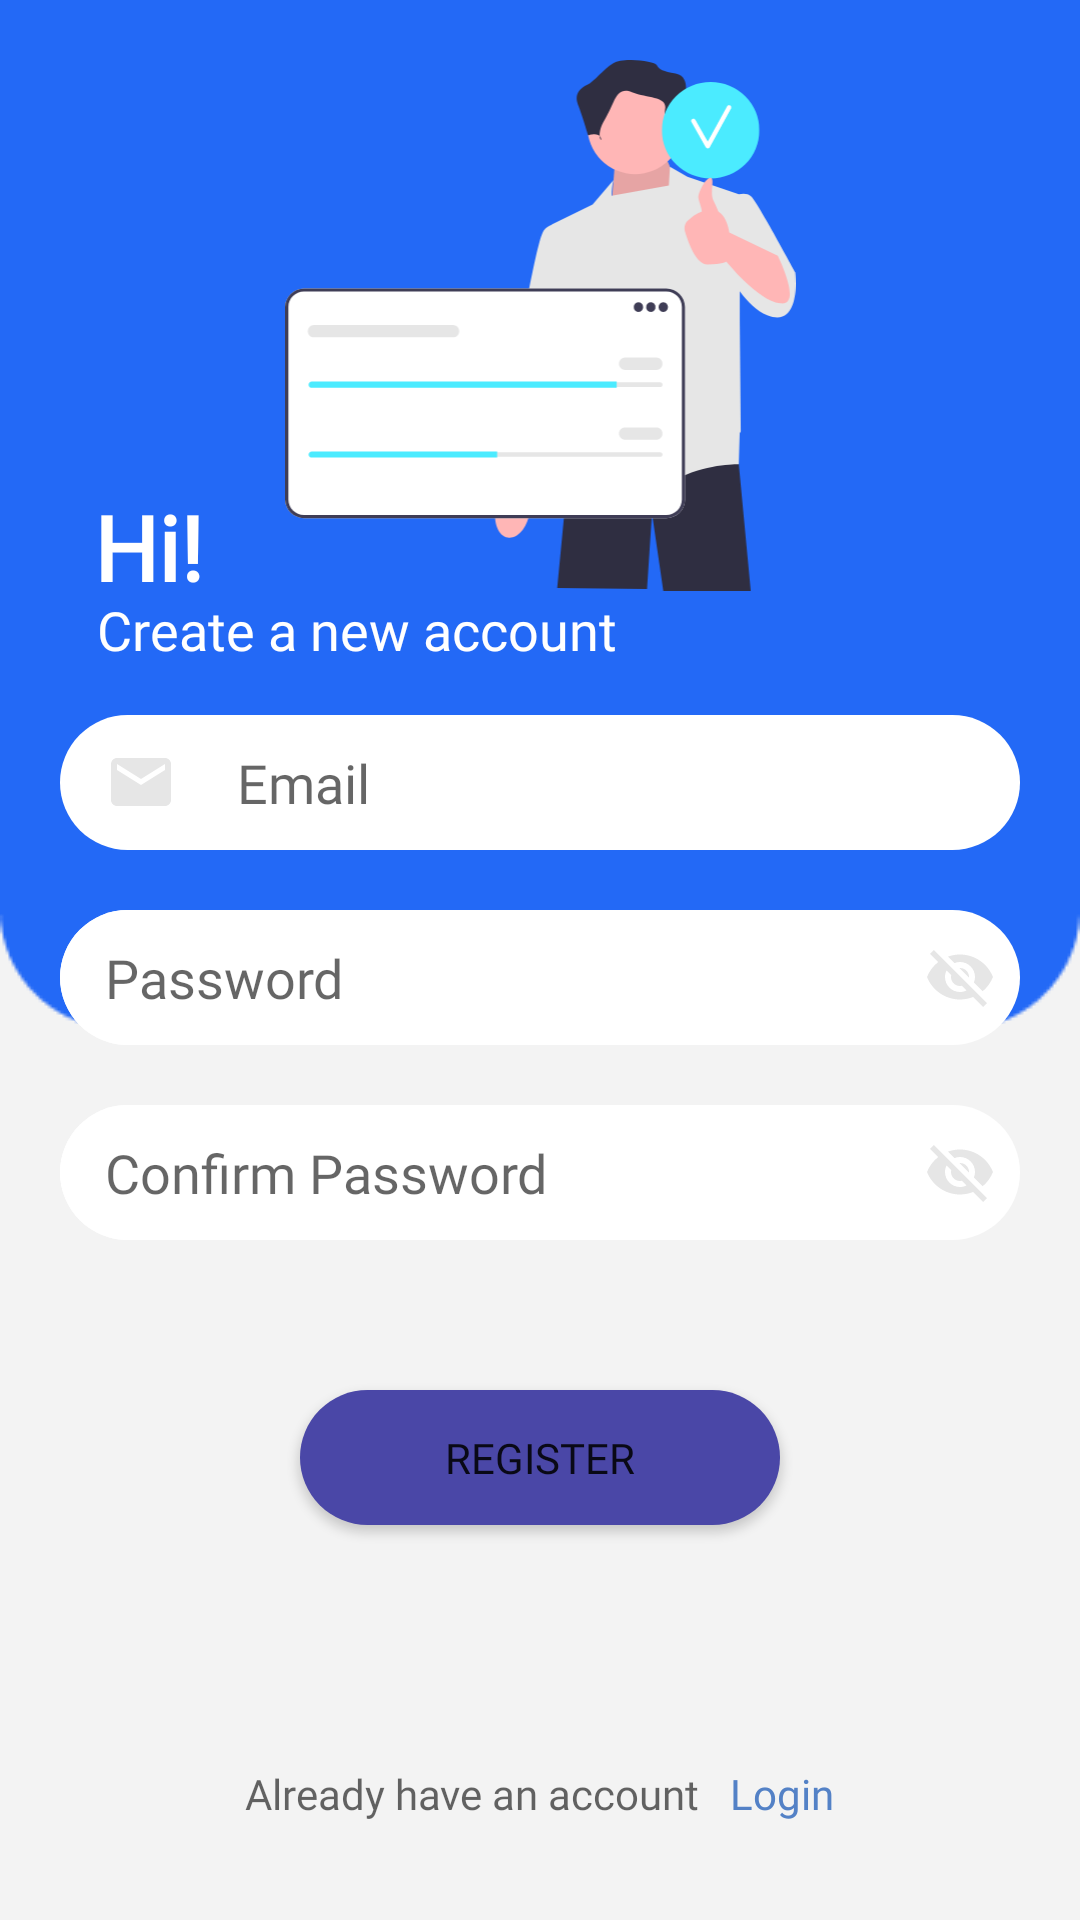

Icon bounding boxes for this 1080 x 1920 phone screenshot, format (x1=x1, y1=y1, x2=x2, y2=y2):
visibility off: (x1=928, y1=951, x2=992, y2=1006), (x1=928, y1=1146, x2=992, y2=1201)
